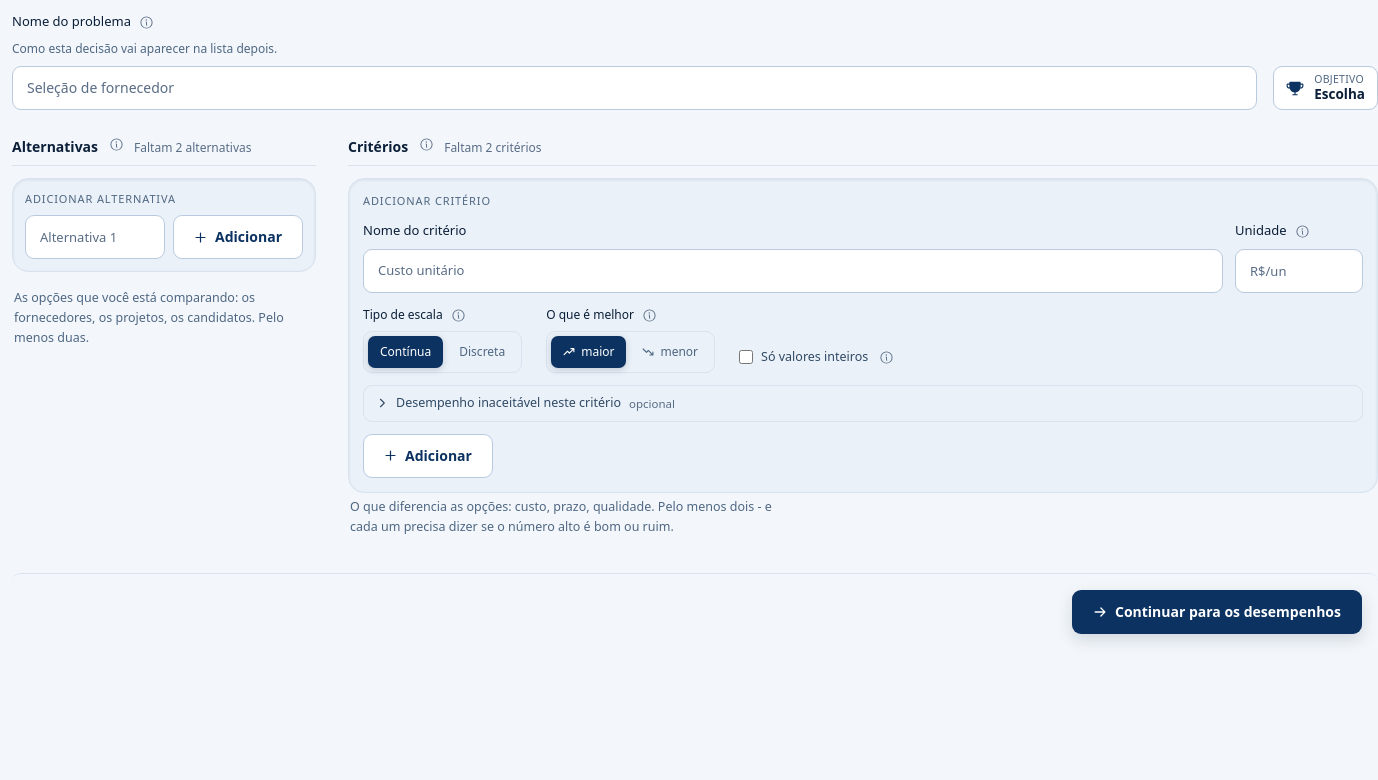
Test: o campo de veto só existe onde o método o define › num critério de minimizar, os rótulos se invertem
The width and height of the screenshot is (1378, 780).
Click the radio button labelled "menor".
click(670, 352)  # box [630, 336, 710, 368]
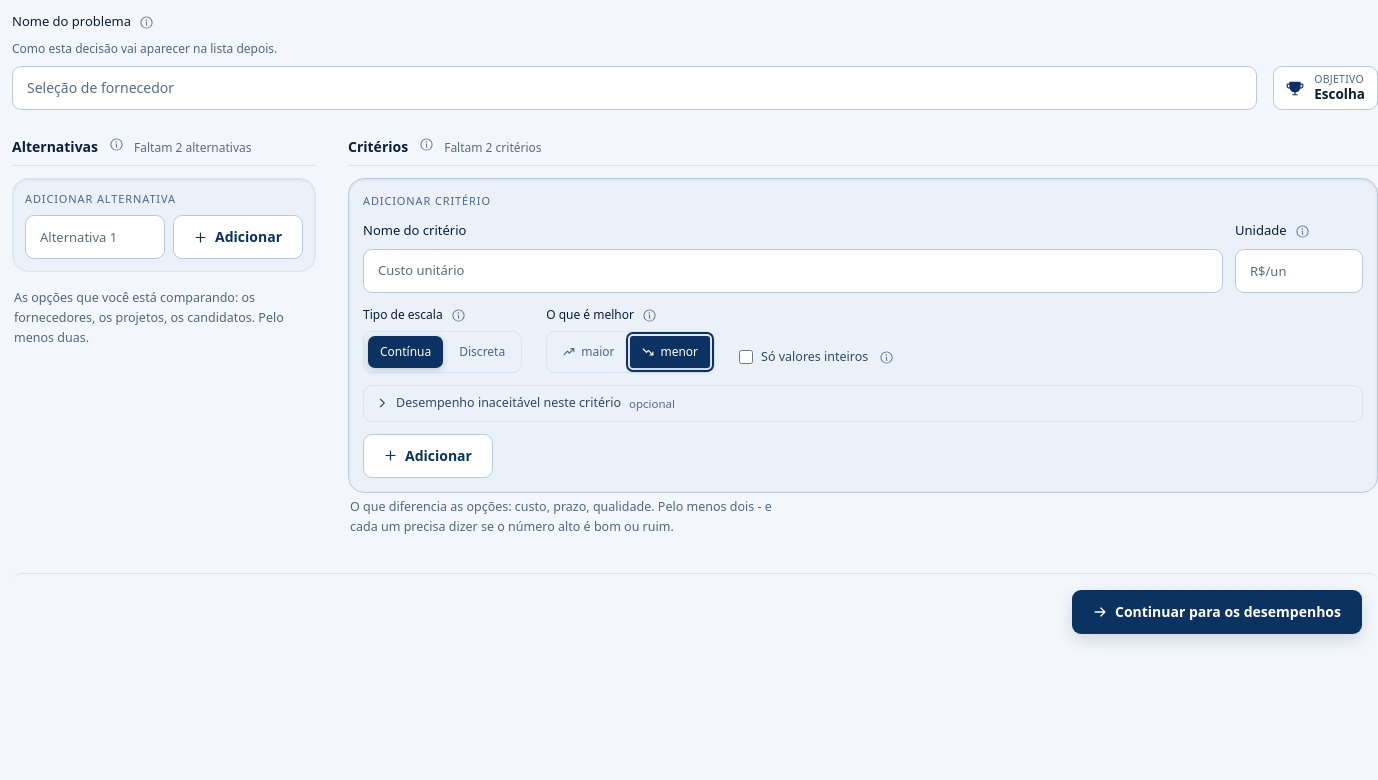
Click the button "Desempenho inaceitável neste critério opcional".
click(509, 402)  # box [364, 386, 1362, 421]
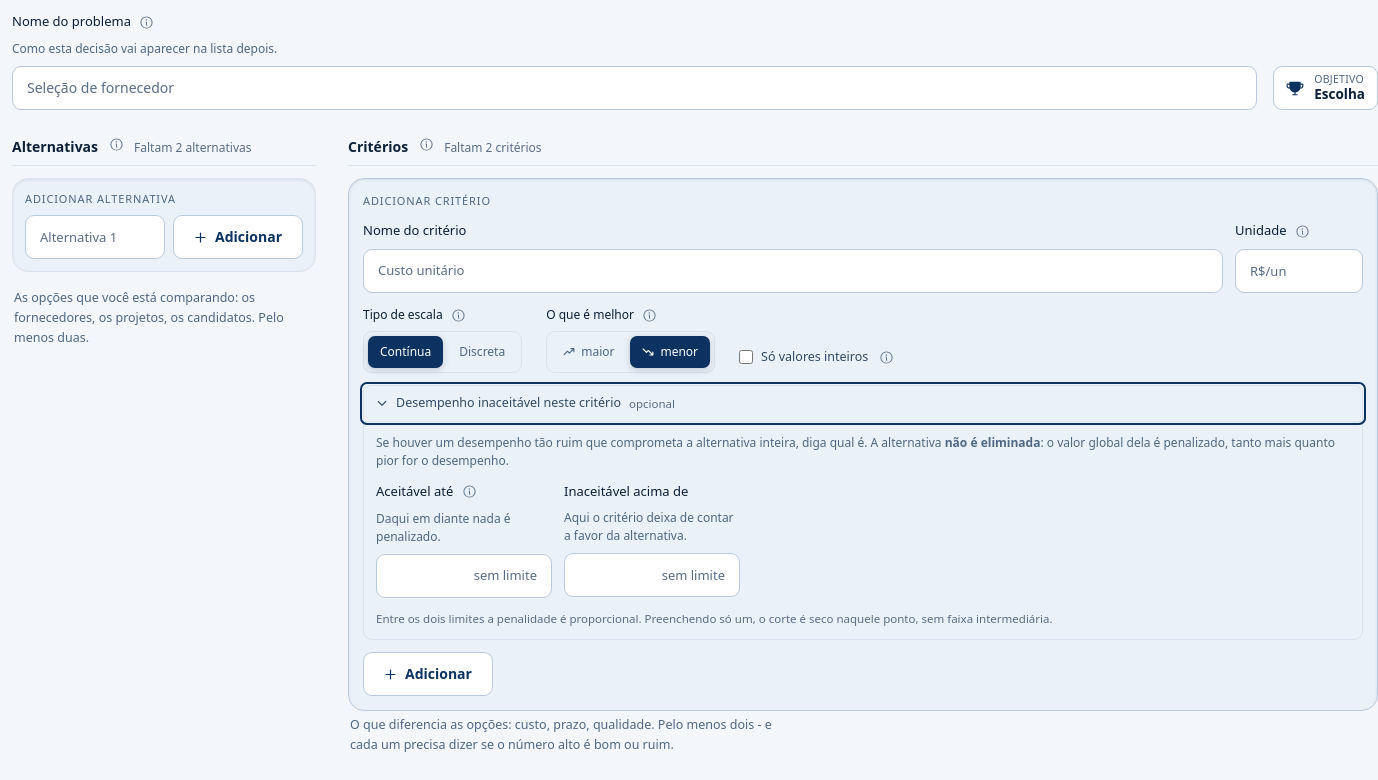
Expected: the field labelled "Aceitável até" is shown, [376, 554, 552, 598]
Expected: the field labelled "Inaceitável acima de" is shown, [564, 553, 740, 597]
